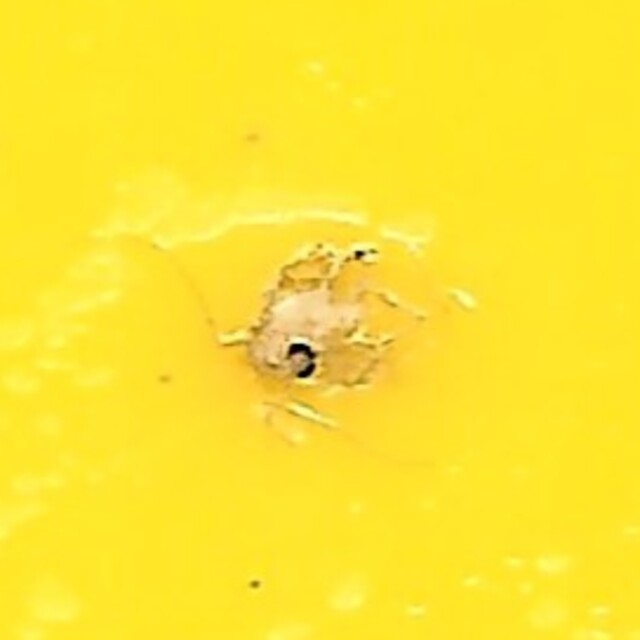Nematocera: (235, 226, 405, 414)
